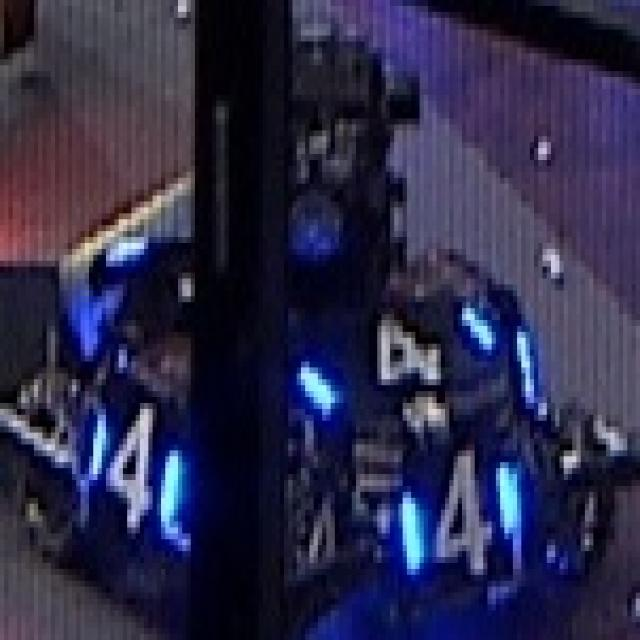B4: (305, 290, 492, 409), (394, 444, 517, 575), (85, 391, 178, 539)
